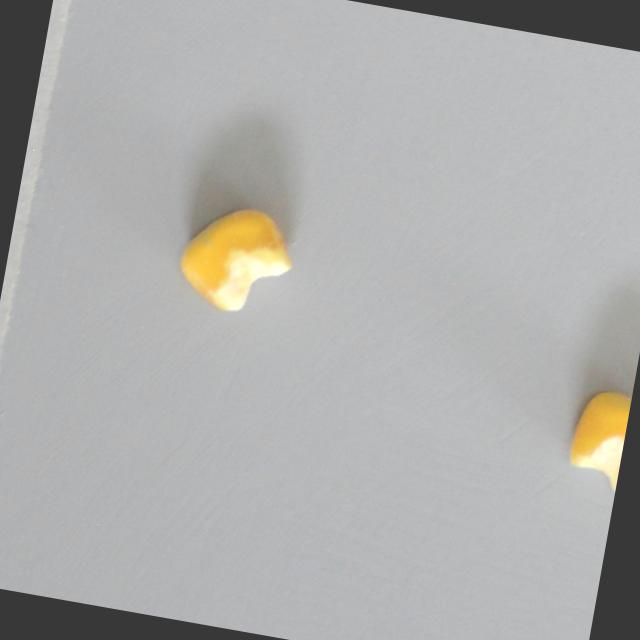no_canjicado: (562, 384, 632, 498)
no_desgerminado: (169, 195, 302, 321)
